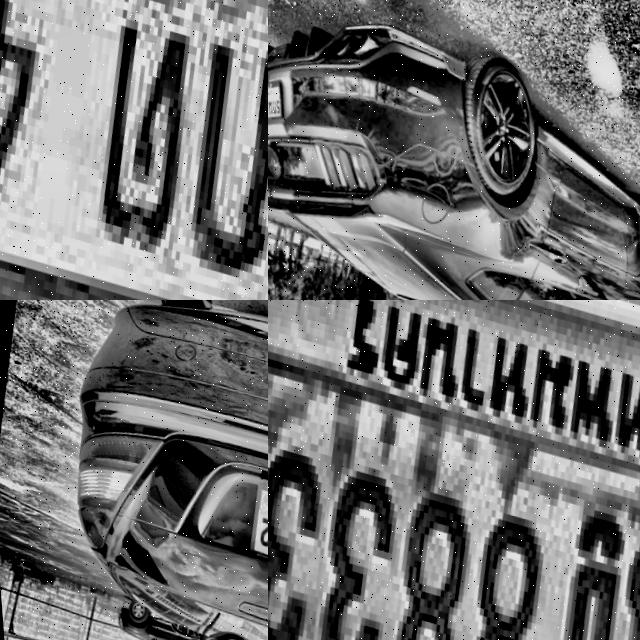license-plate: (268, 300, 640, 640), (0, 0, 268, 300), (236, 462, 268, 593), (268, 66, 293, 132)
